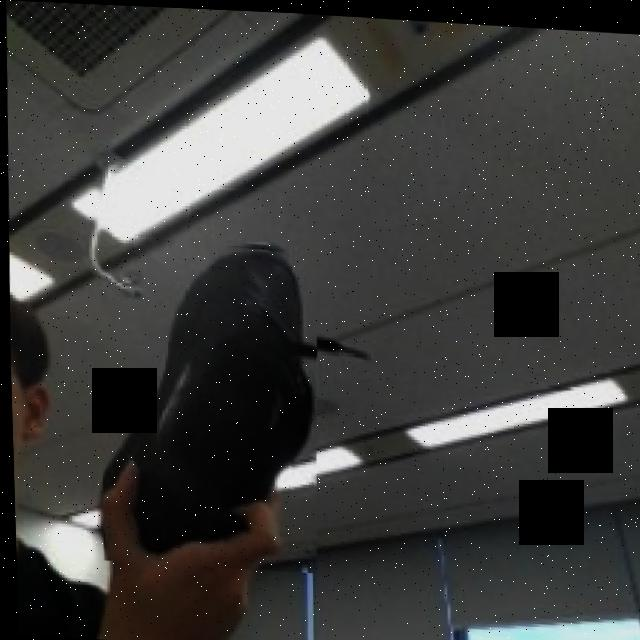shoe: (92, 232, 323, 570)
